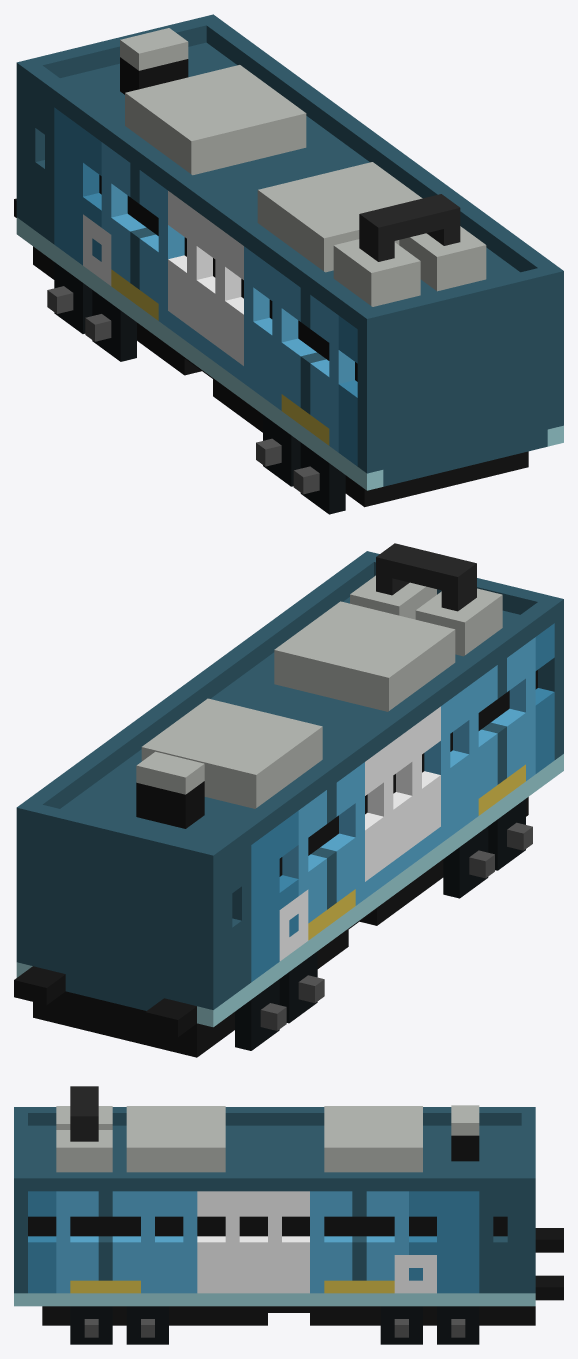
The model's file is CrossyTrainWagon.obj.
The picture shows the model from 3 angles, top to bottom: view 1: azimuth 30°, elevation 25°; view 2: azimuth 150°, elevation 25°; view 3: azimuth 270°, elevation 25°; orthographic projection. The views are drawn at different scales.
Size of the model in its own units: 1.4 by 1.6 by 3.9.
1 material, 1 textured.
